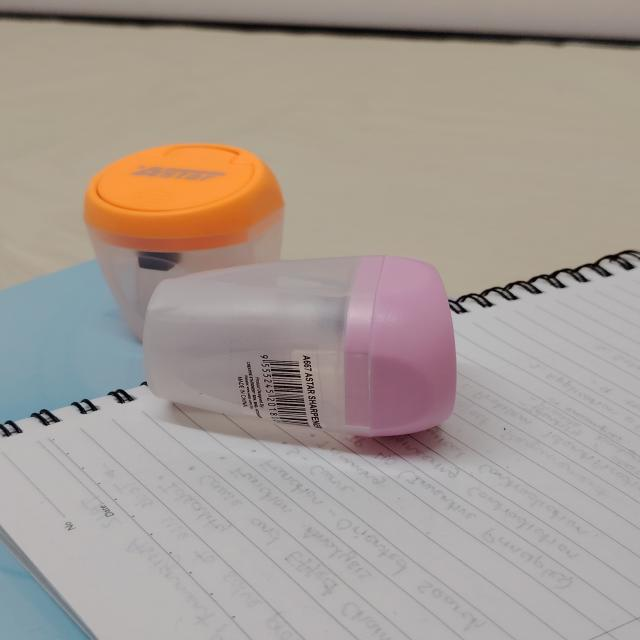sharpener: (143, 256, 456, 437), (84, 144, 284, 339)
